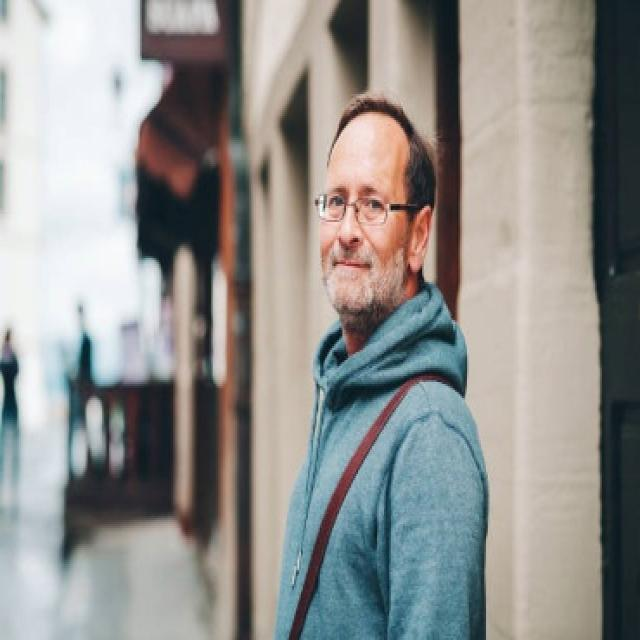adult: (267, 88, 493, 640)
